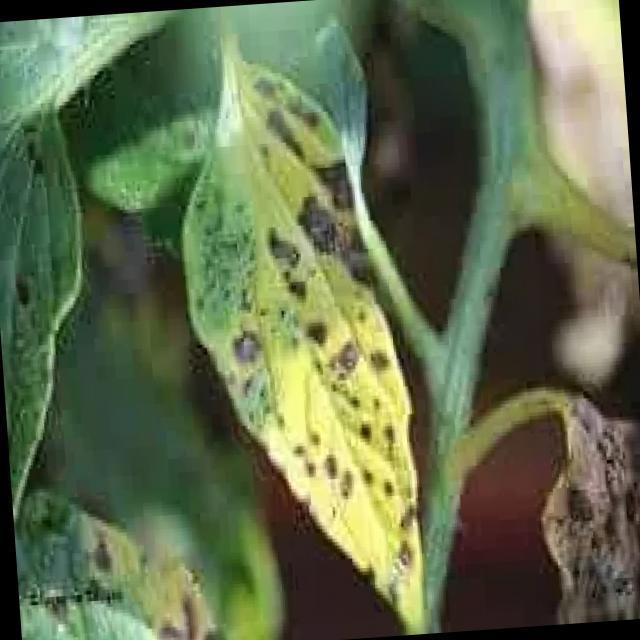Septoria: (194, 158, 436, 601)
